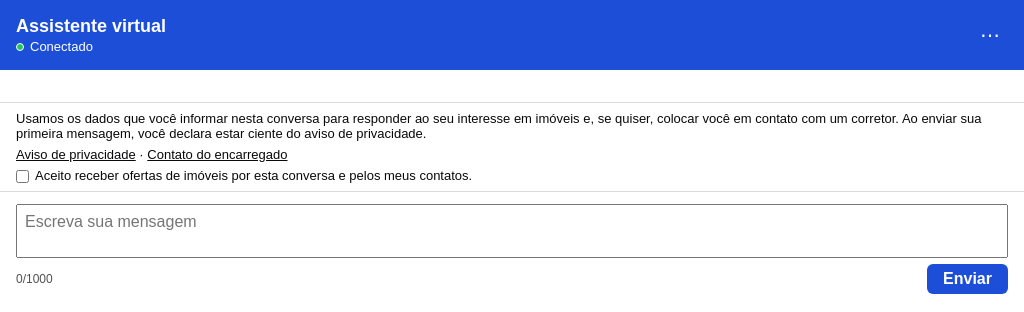
Test: Conversa › evento do socket antigo nao chega a tela depois da troca
The image size is (1024, 312).
Type "Oi" into the text box labelled "mensagem" at (512, 231), box top-left (16, 204), bottom-right (1008, 258)
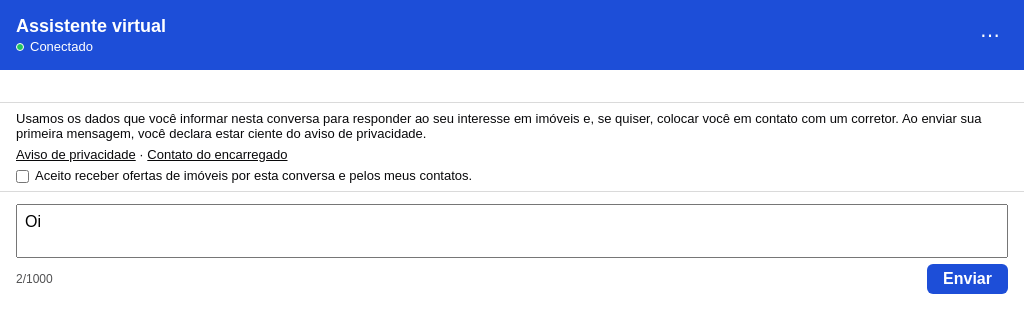
Click the button "Enviar" at (968, 279), box top-left (927, 264), bottom-right (1008, 294)
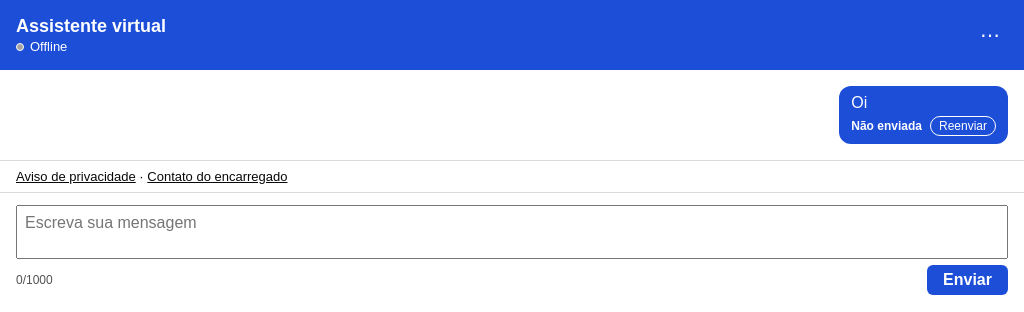
Click the button "Reenviar" at (963, 126), box top-left (930, 116), bottom-right (996, 136)
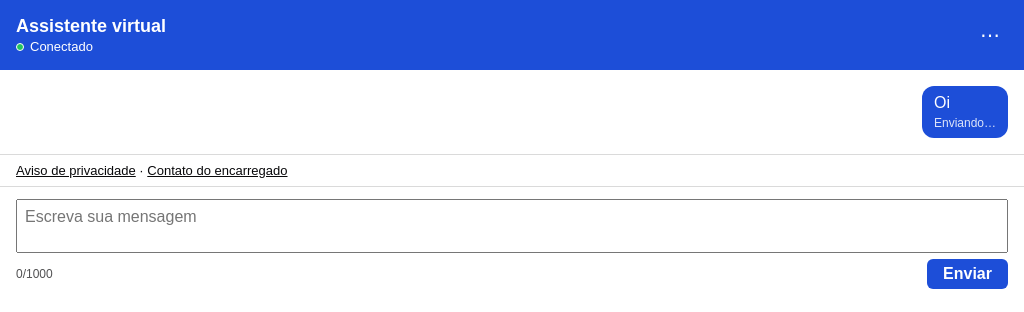
Expected: the text "Enviando…" is shown, top-left (934, 116), bottom-right (996, 130)
